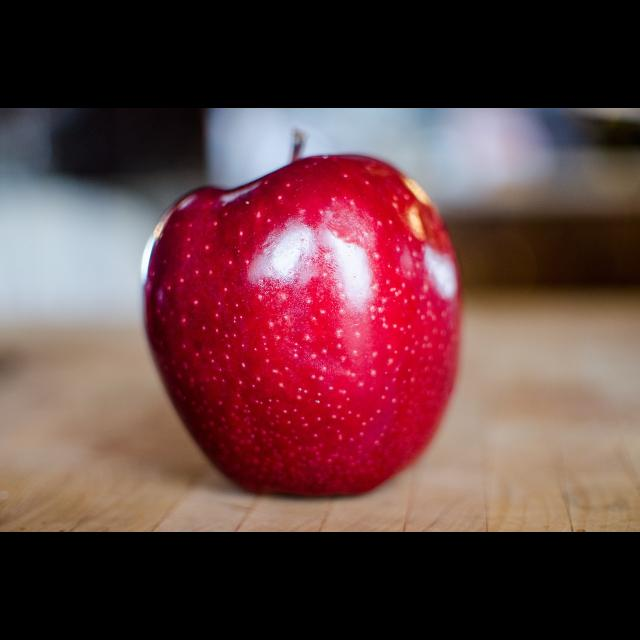Apel Segar: (144, 162, 472, 500)
